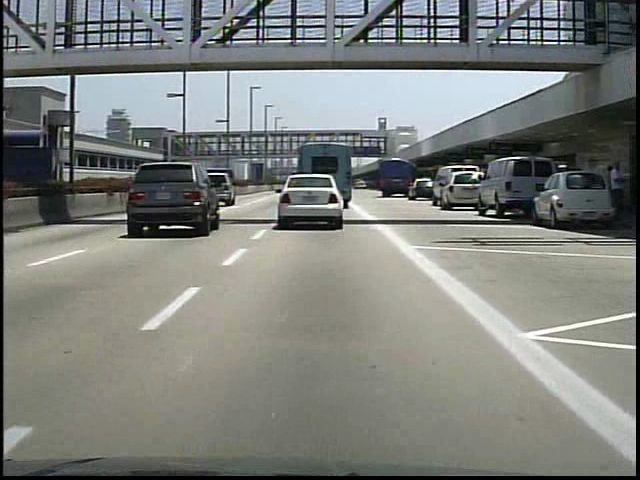person: (604, 153, 631, 230)
